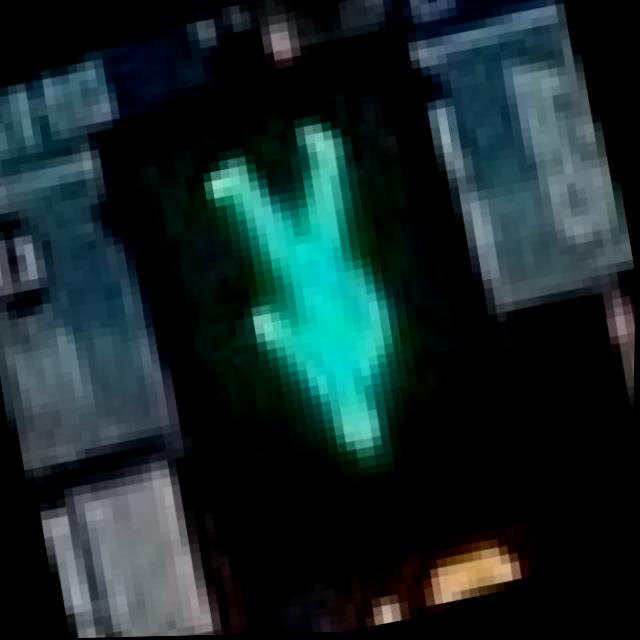green_light: (113, 31, 550, 555)
